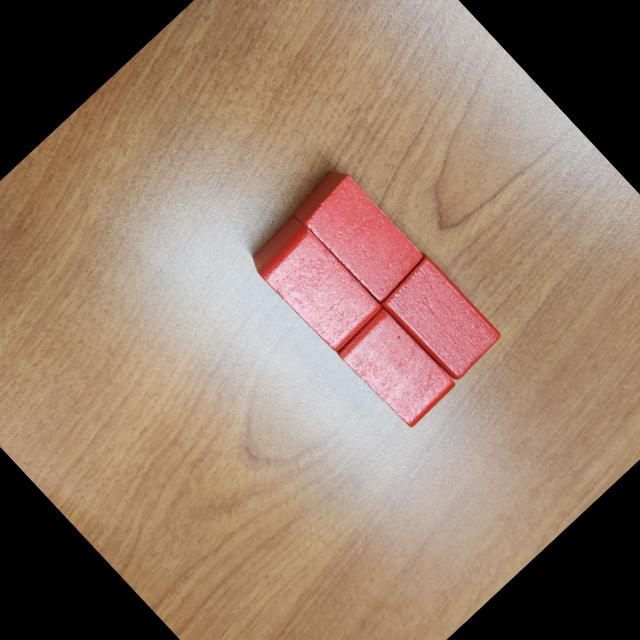red: (286, 162, 429, 308), (245, 214, 385, 357), (372, 248, 506, 384), (335, 304, 459, 430)
